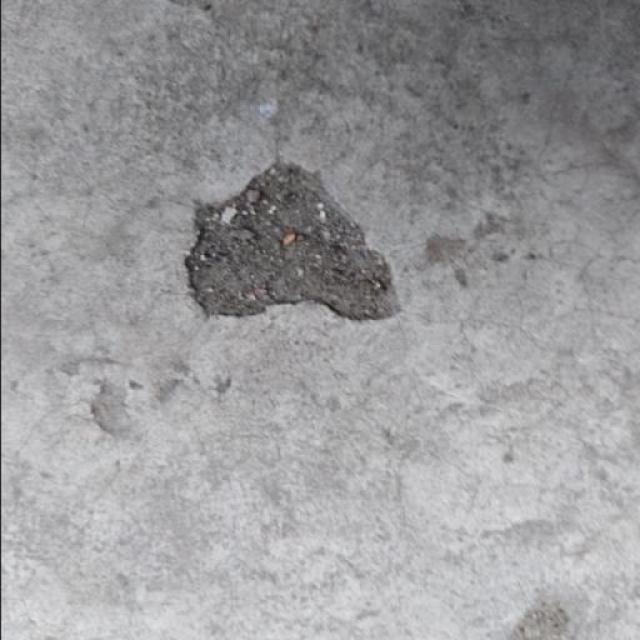D10: (184, 161, 399, 322)
